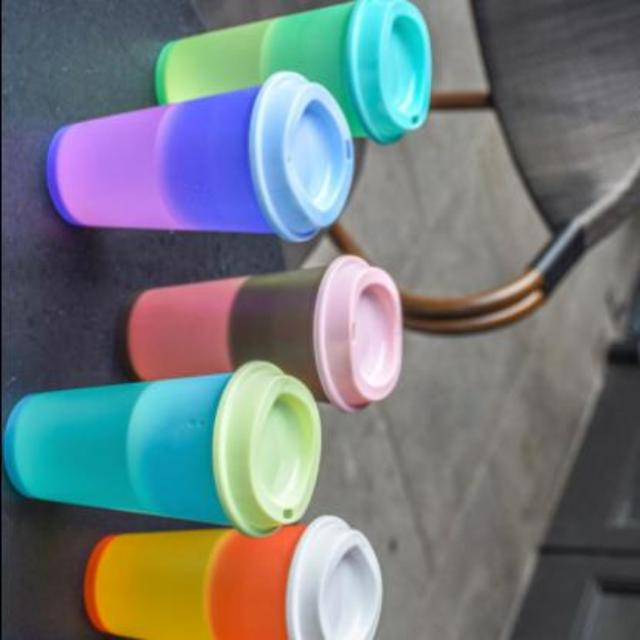plastic_cup: (2, 362, 320, 538), (44, 74, 354, 242), (154, 0, 430, 160), (122, 252, 402, 408), (83, 518, 381, 638)
